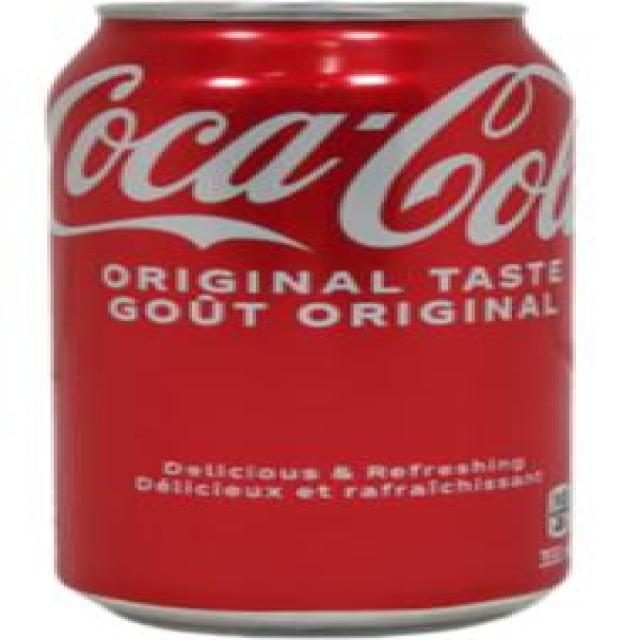cocacola: (52, 0, 570, 640)
